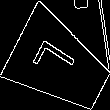L_SE: (34, 39, 86, 91)
